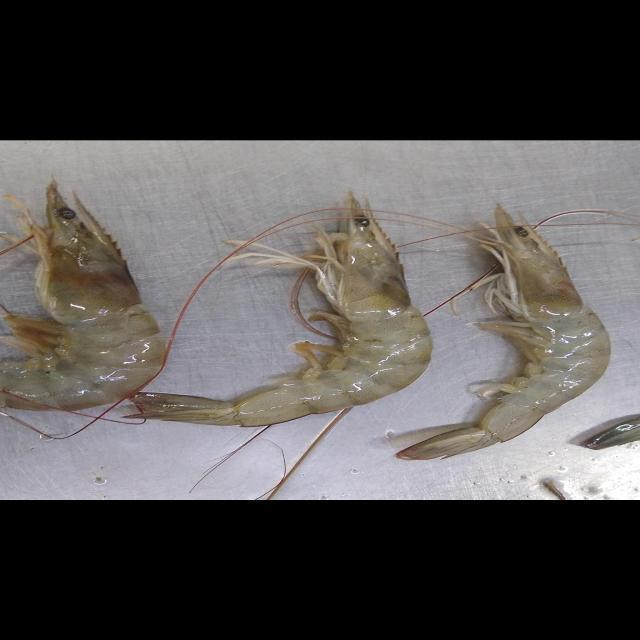shrimp: (131, 198, 433, 426), (396, 206, 611, 460), (0, 182, 164, 410)
